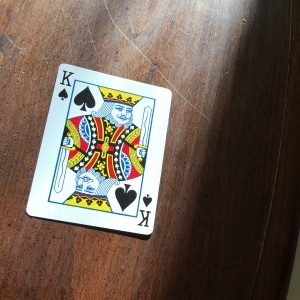card: (27, 62, 174, 238)
